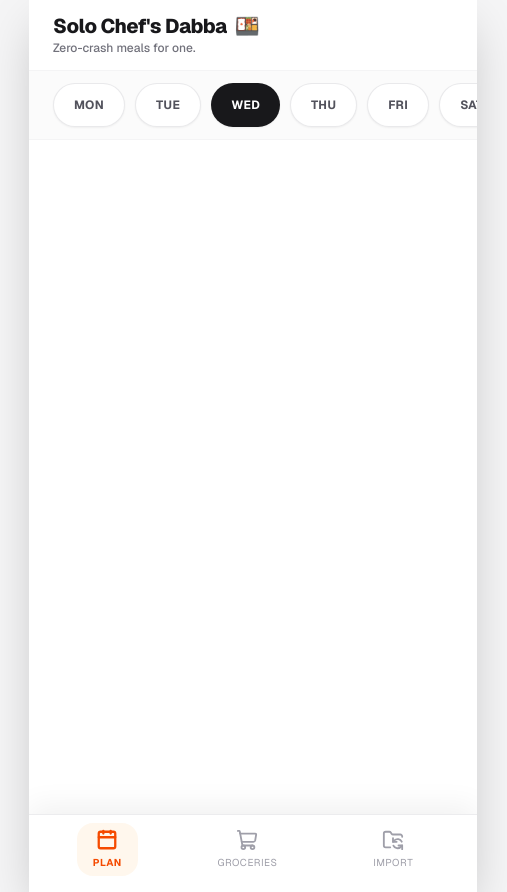
Test: Page › renders imported groceries
This screenshot has width=507, height=892.
Click the button "Groceries" at (247, 850), box left=201, top=823, right=294, bottom=876
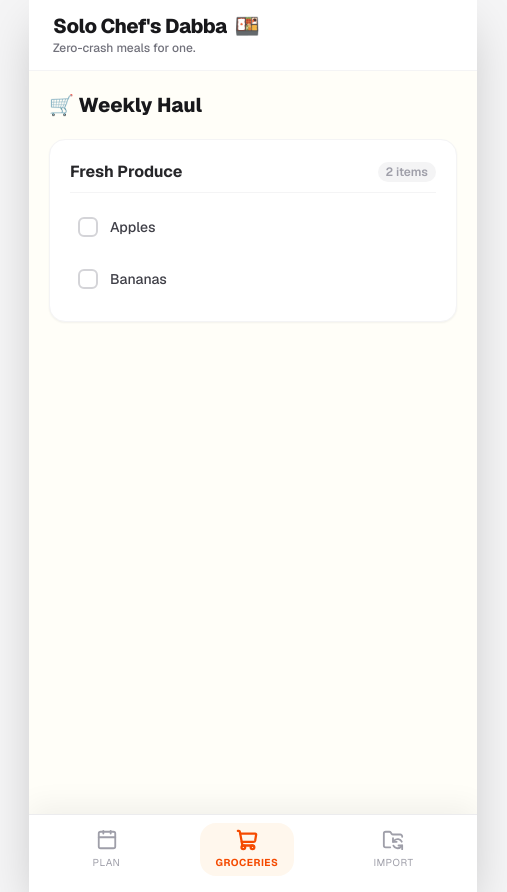
Now the text "Fresh Produce" is shown, box left=70, top=160, right=182, bottom=184
Now the text "Apples" is shown, box left=110, top=217, right=156, bottom=237
Now the text "Bananas" is shown, box left=110, top=269, right=167, bottom=289
